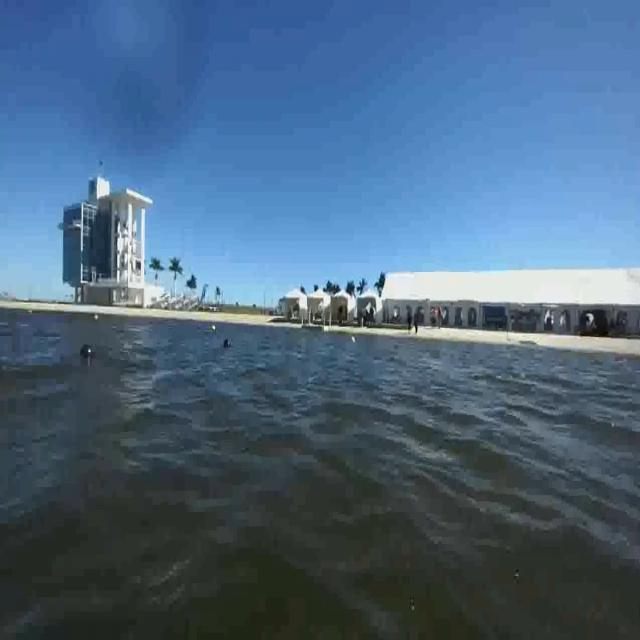black-buoy: (79, 339, 96, 362)
